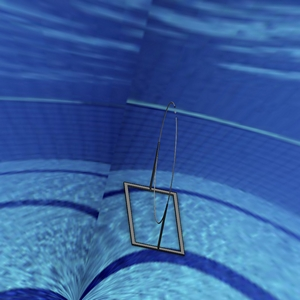circle: (123, 98, 188, 257)
